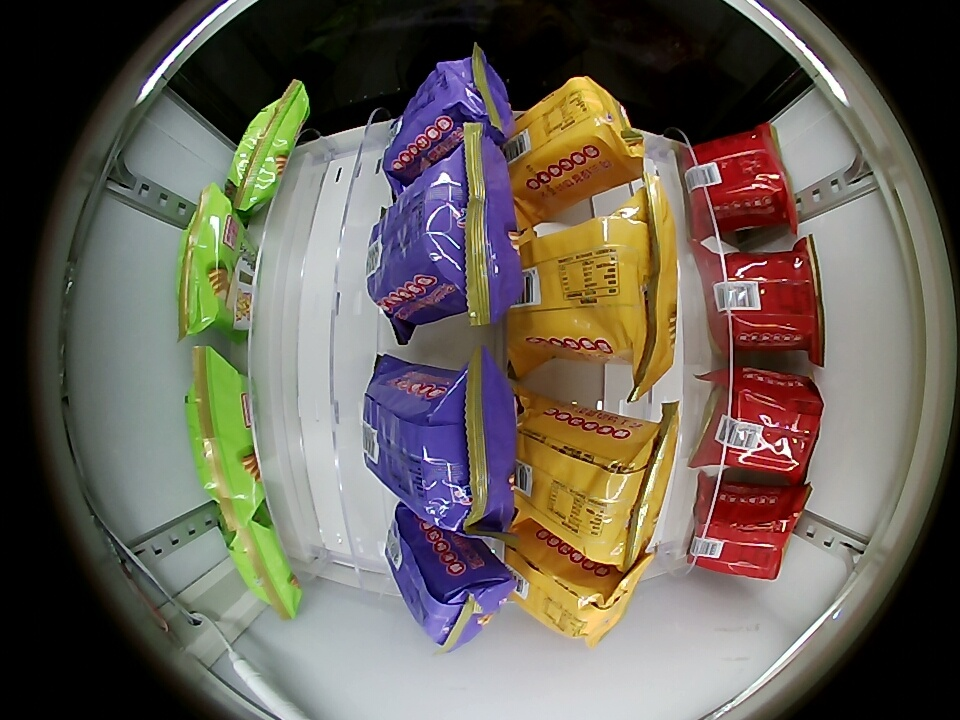kaomo_gali: (508, 209, 678, 367), (520, 399, 676, 568), (508, 77, 643, 213), (506, 527, 648, 644)
kaomo_jiaoyan: (365, 134, 524, 331), (361, 359, 520, 534), (392, 508, 517, 649), (381, 55, 515, 183)
kaomo_shaokao: (698, 369, 824, 479), (680, 127, 796, 239), (703, 251, 825, 352), (689, 481, 803, 579)
kaomo_xiangcon: (187, 354, 265, 504), (177, 196, 253, 337), (224, 87, 309, 212), (216, 501, 301, 615)
